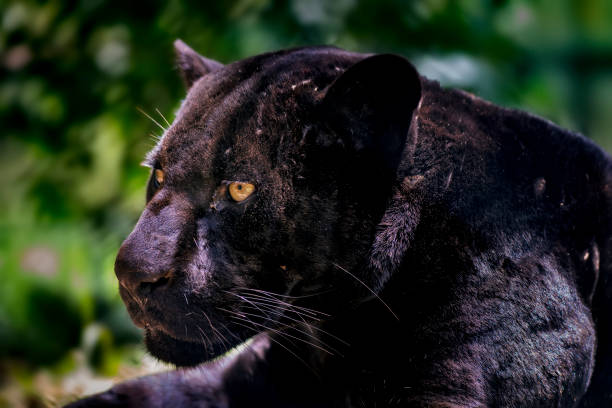panther: (72, 20, 440, 381)
